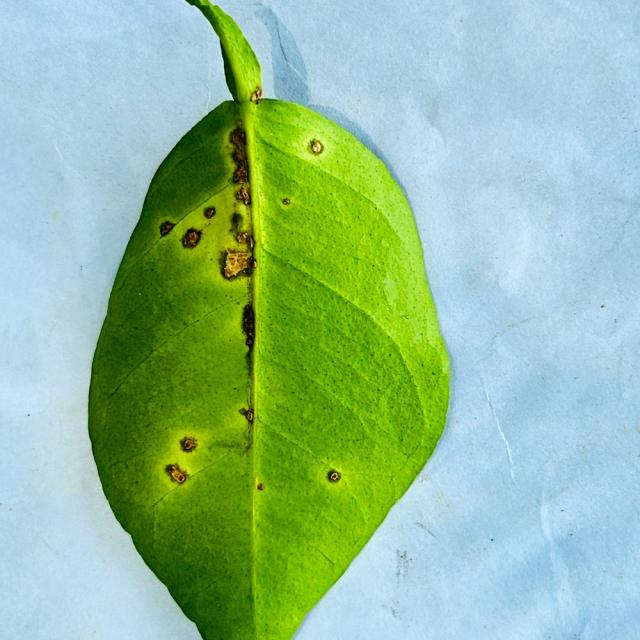Anthracnose: (234, 307, 270, 362), (221, 244, 255, 277), (159, 463, 190, 489), (181, 228, 202, 247), (230, 128, 246, 151), (233, 166, 249, 185), (180, 437, 196, 452), (159, 221, 175, 236), (236, 186, 250, 203), (309, 139, 324, 154), (250, 87, 262, 104), (327, 470, 342, 483), (243, 408, 254, 423), (204, 206, 216, 219), (237, 232, 250, 244), (256, 481, 265, 491), (282, 198, 291, 205), (171, 467, 177, 473)
Lemon: (88, 0, 452, 639)
